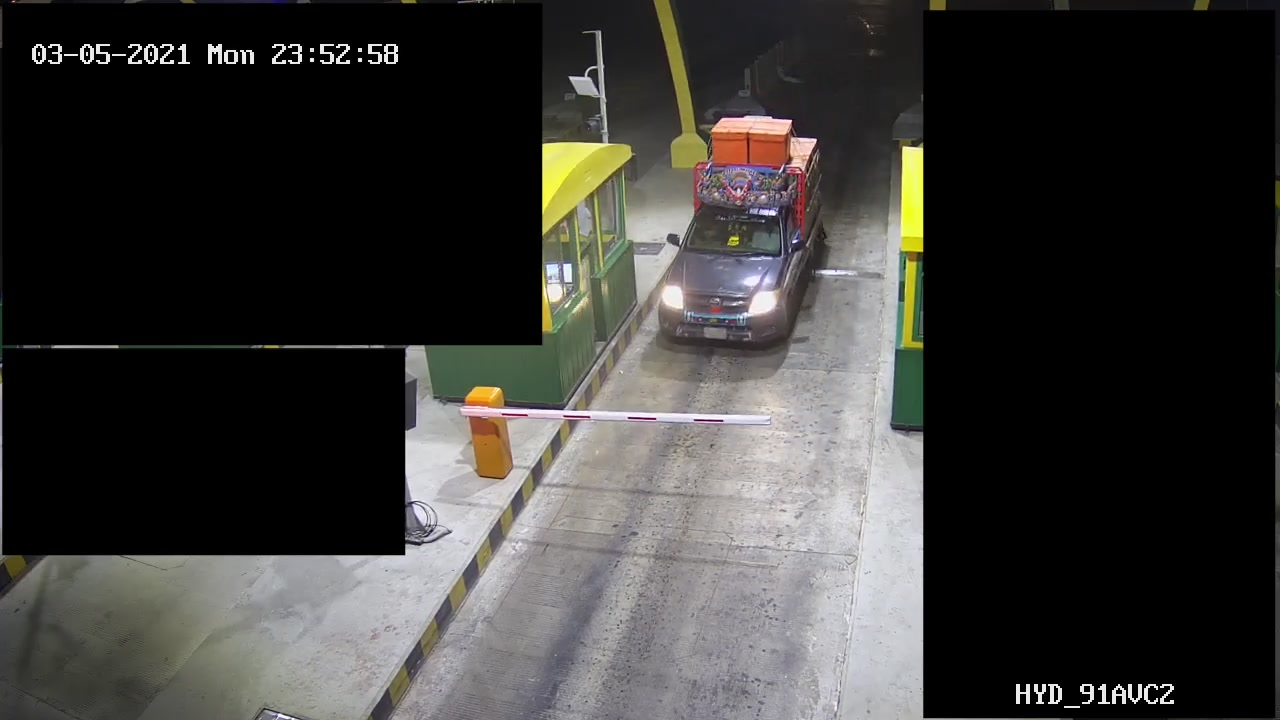F1: (653, 112, 833, 371)
